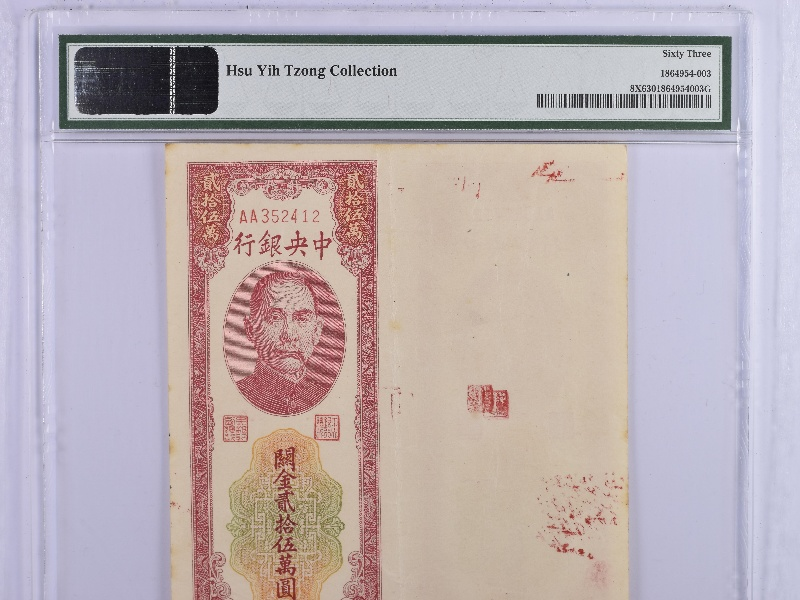papernote: (163, 139, 632, 598)
